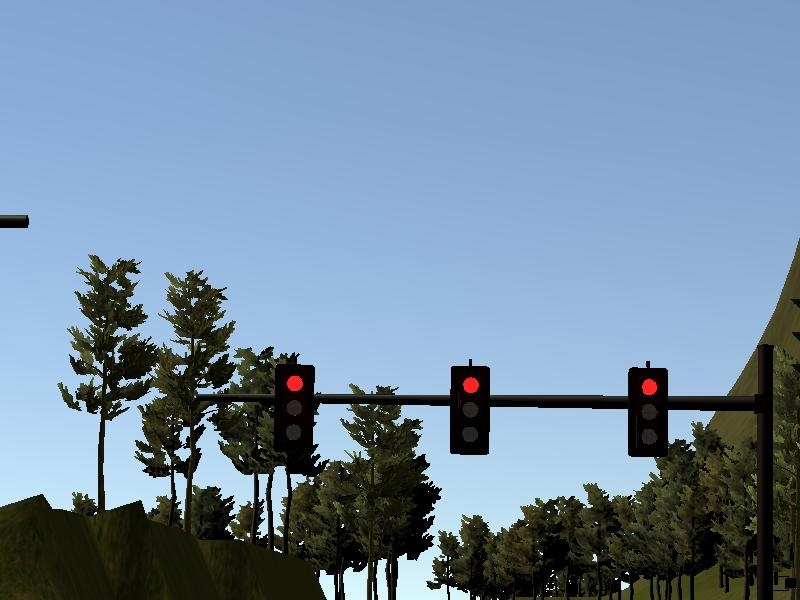red: (270, 358, 317, 462), (624, 360, 670, 459), (448, 360, 492, 459)
